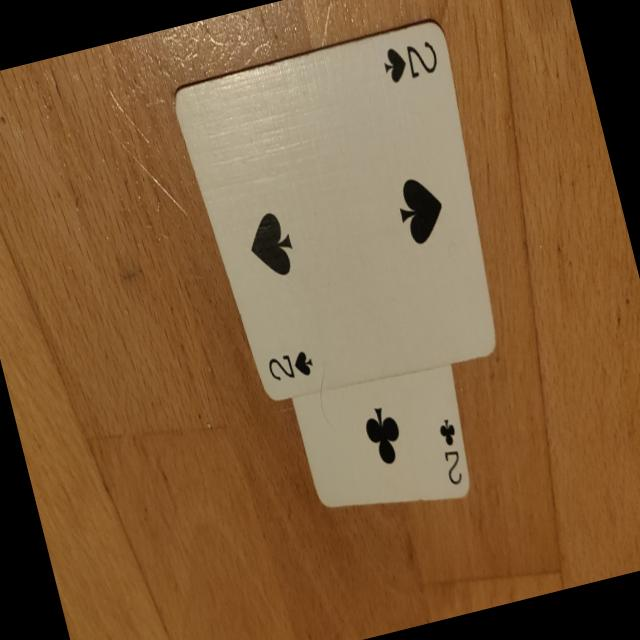Club: (361, 403, 406, 467), (438, 418, 458, 447)
Spade: (392, 173, 450, 247), (244, 208, 298, 282), (380, 46, 410, 84), (292, 350, 314, 378)
